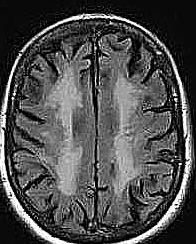Normal_Brain: (1, 3, 195, 244)
